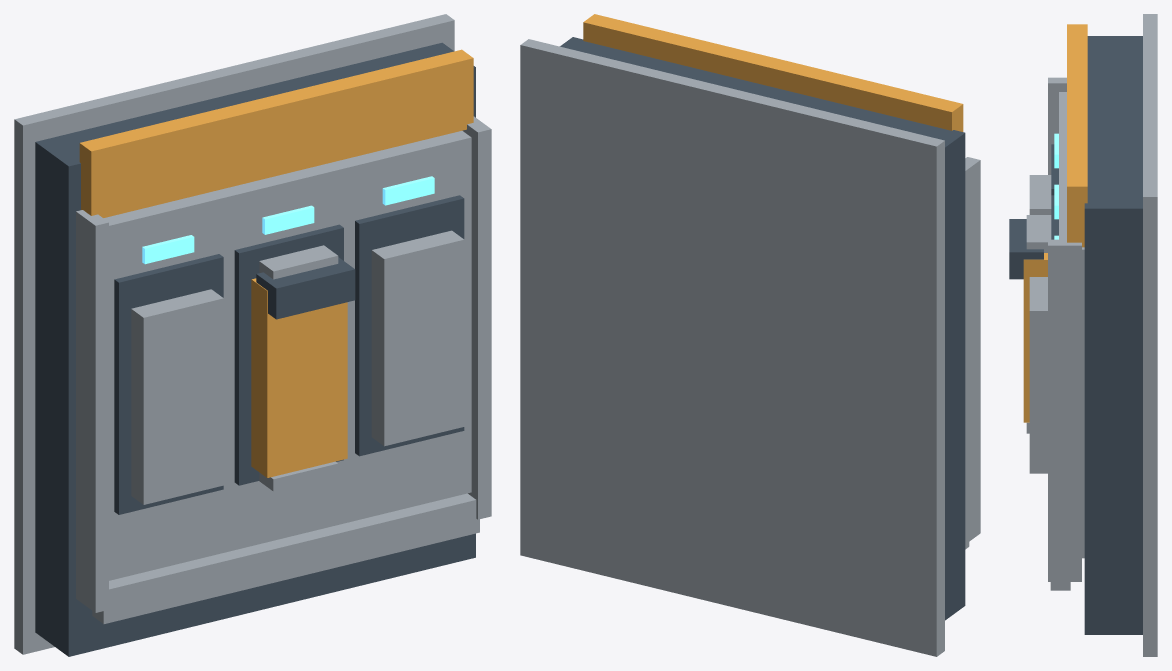
The picture shows the model from 3 angles, left to right: view 1: azimuth 30°, elevation 25°; view 2: azimuth 150°, elevation 25°; view 3: azimuth 270°, elevation 25°; orthographic projection. The views are drawn at different scales.
Visible parts, largest first — view 1: Panel, OuterCase, Header, WallMount, RightInstalledFuse, LeftInstalledFuse, BottomRail, RemovableCore, EdgeRailL, EdgeRailR, LeftFuseSlot, RightFuseSlot (+7 smaller); view 2: WallMount, OuterCase, Header, EdgeRailL; view 3: OuterCase, EdgeRailR, WallMount, Header, RightInstalledFuse, Panel, RemovableCore, RemovableHandle, EdgeRailL, LeftInstalledFuse, RemovableContactT, LeftFuseSlot (+1 smaller).
Boxes of the visible parts, bbox=[...] form: Panel: bbox=[103, 131, 471, 580]; OuterCase: bbox=[35, 42, 475, 656]; Header: bbox=[79, 49, 473, 217]; WallMount: bbox=[14, 14, 454, 654]; RightInstalledFuse: bbox=[371, 230, 464, 446]; LeftInstalledFuse: bbox=[131, 289, 223, 504]; BottomRail: bbox=[92, 493, 479, 623]; RemovableCore: bbox=[251, 278, 347, 477]; EdgeRailL: bbox=[76, 210, 108, 612]; EdgeRailR: bbox=[462, 116, 491, 519]; LeftFuseSlot: bbox=[114, 254, 223, 514]; RightFuseSlot: bbox=[355, 195, 464, 456]; WallMount: bbox=[520, 39, 944, 656]; OuterCase: bbox=[560, 37, 965, 620]; Header: bbox=[583, 14, 963, 131]; EdgeRailL: bbox=[965, 157, 980, 544]; OuterCase: bbox=[1084, 36, 1142, 634]; EdgeRailR: bbox=[1048, 239, 1081, 581]; WallMount: bbox=[1143, 14, 1157, 656]; Header: bbox=[1067, 24, 1087, 247]; RightInstalledFuse: bbox=[1029, 277, 1047, 473]; Panel: bbox=[1059, 92, 1084, 558]; RemovableCore: bbox=[1023, 253, 1047, 422]; RemovableHandle: bbox=[1009, 219, 1043, 279]; EdgeRailL: bbox=[1048, 77, 1066, 174]; LeftInstalledFuse: bbox=[1029, 175, 1051, 214]; RemovableContactT: bbox=[1026, 215, 1051, 252]; LeftFuseSlot: bbox=[1051, 144, 1058, 195].
Bounding box in the file's own units: 0.7 × 0.82 × 0.24.
